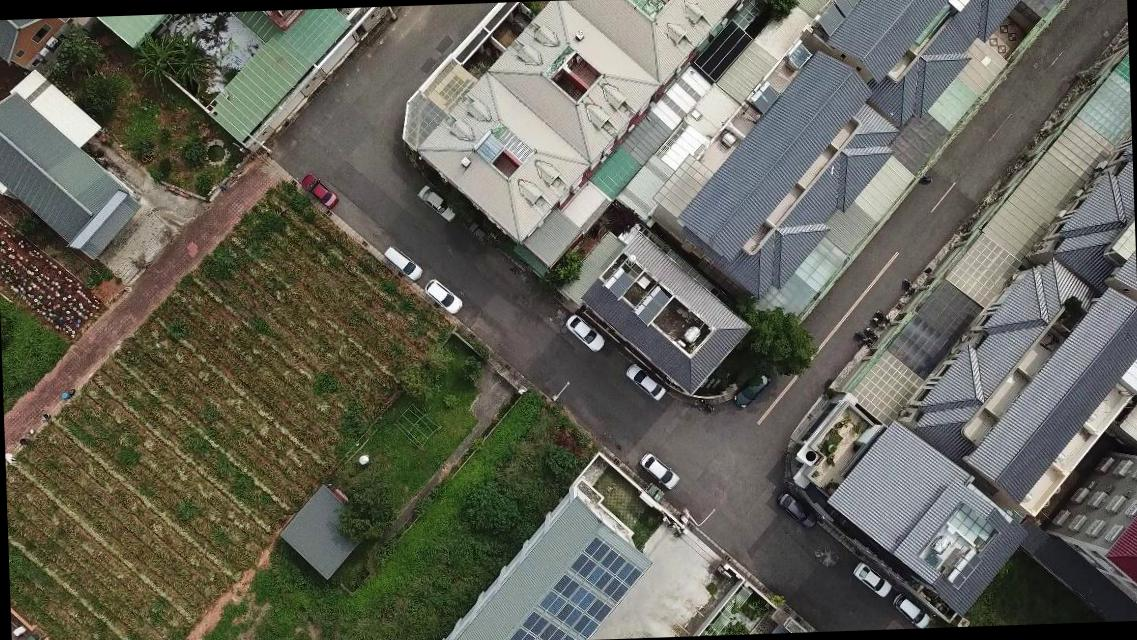vehicle: (625, 358, 666, 400), (639, 450, 679, 490), (418, 182, 456, 223), (566, 312, 605, 351), (422, 276, 462, 314), (852, 558, 892, 596), (380, 243, 421, 280), (779, 491, 820, 528), (730, 372, 772, 408), (302, 171, 339, 209), (894, 592, 933, 628)
